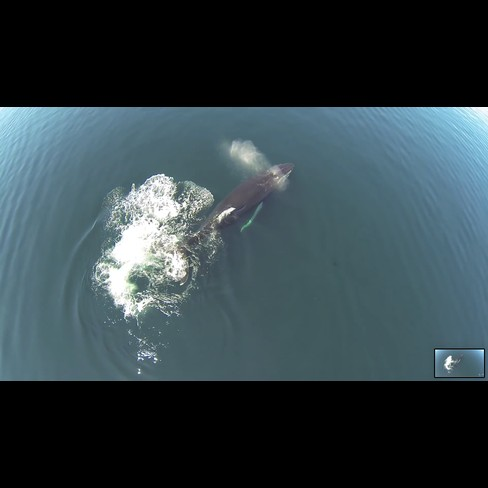hump: (162, 154, 303, 293)
